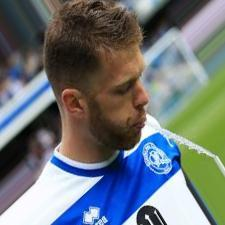spitting: (10, 5, 217, 222)
